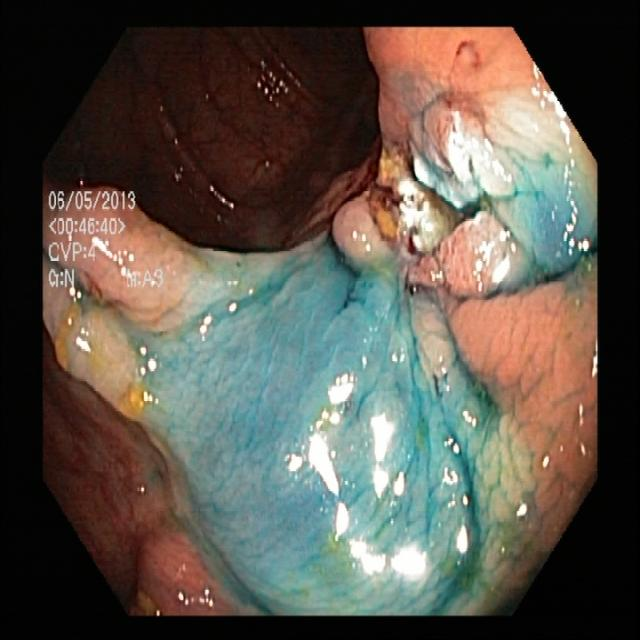dyed-resection-margins: (329, 85, 564, 309), (41, 191, 191, 307)
